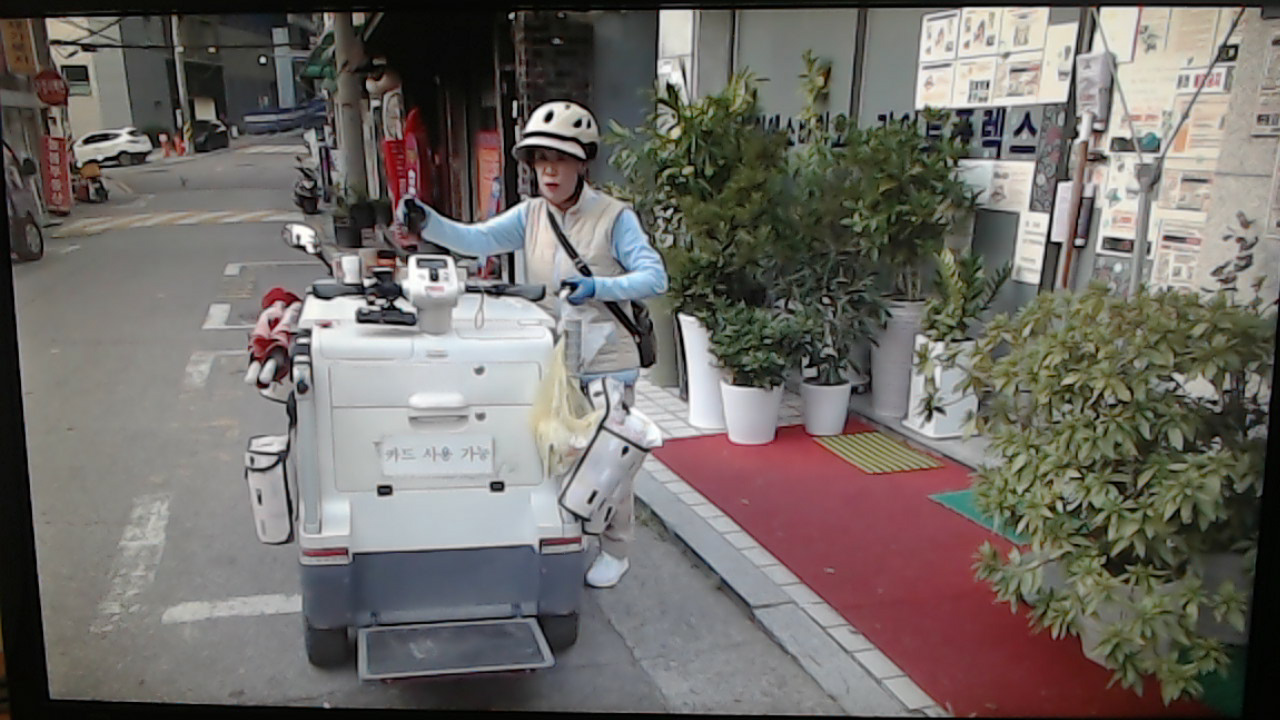Yakurut: (390, 84, 692, 602)
